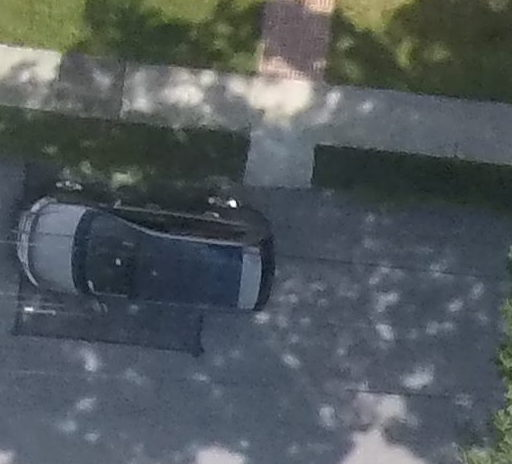car: (11, 173, 283, 329)
